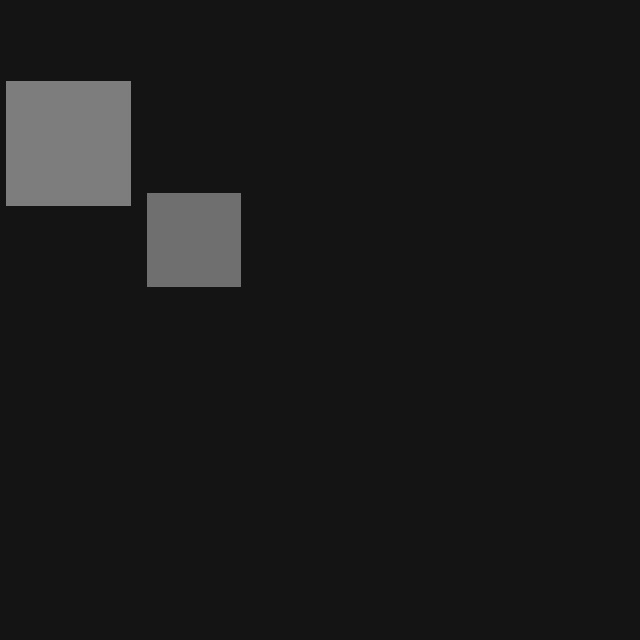square: (6, 81, 130, 205), (147, 193, 240, 286)
